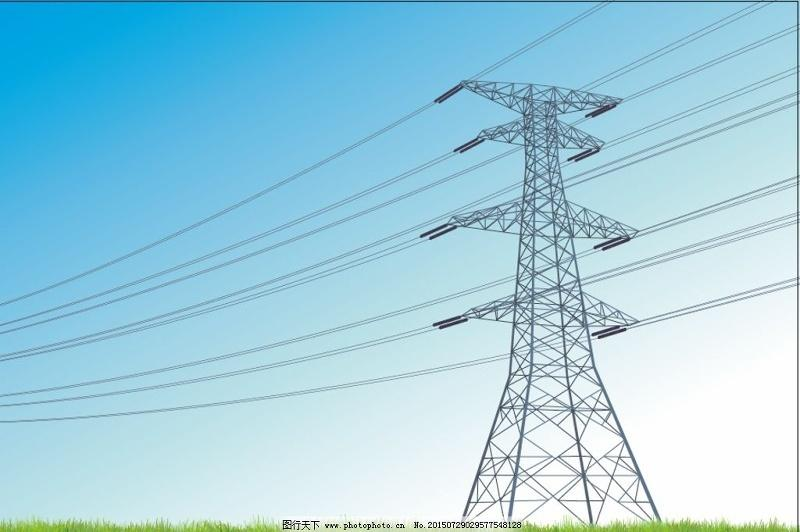power_tower: (420, 68, 688, 518)
